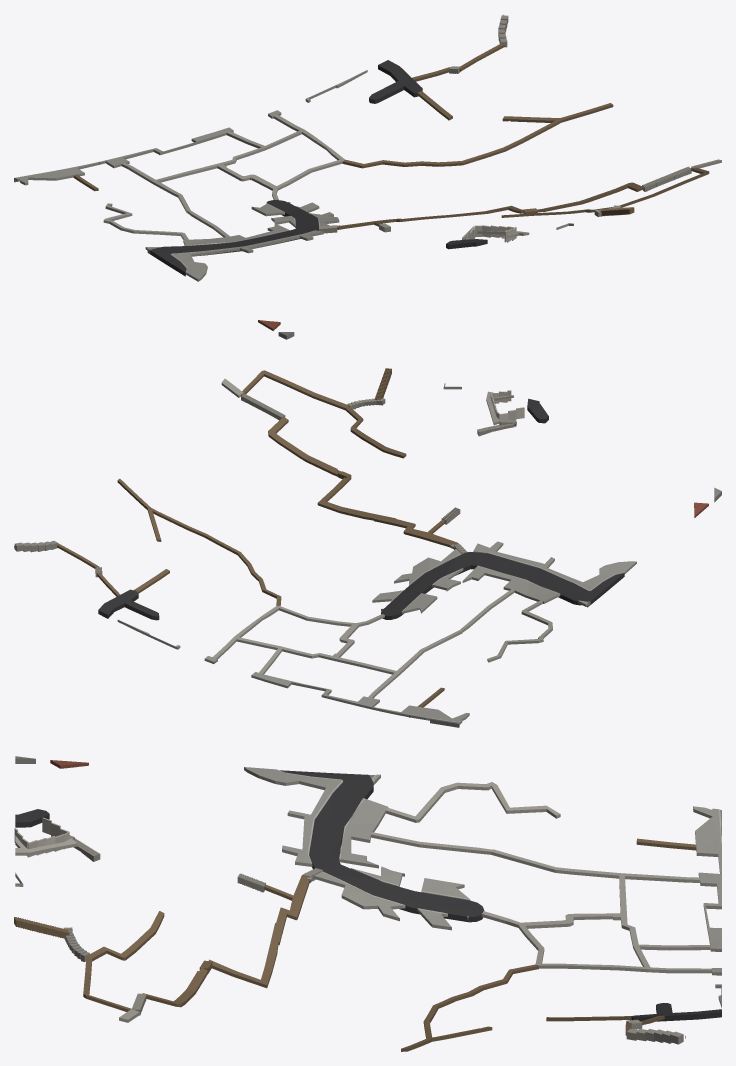
File: 18-218864-118953.731fcac9.glb
3 renders of one model, top to bottom at view 1: azimuth 30°, elevation 25°; view 2: azimuth 150°, elevation 25°; view 3: azimuth 270°, elevation 25°, orthographic. The views are drawn at different scales.
Size of the model in its own units: 147 by 29.46 by 146.
